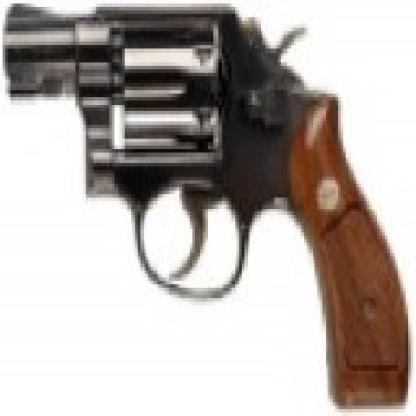pistol: (3, 3, 403, 405)
